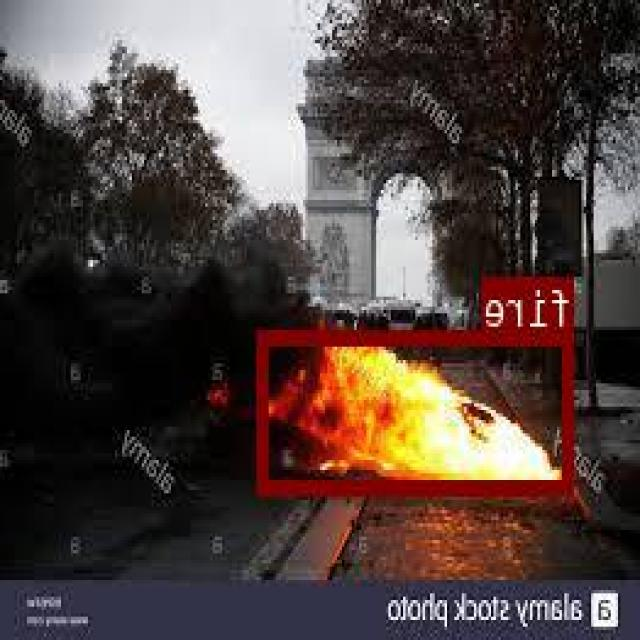fire: (261, 330, 575, 493)
